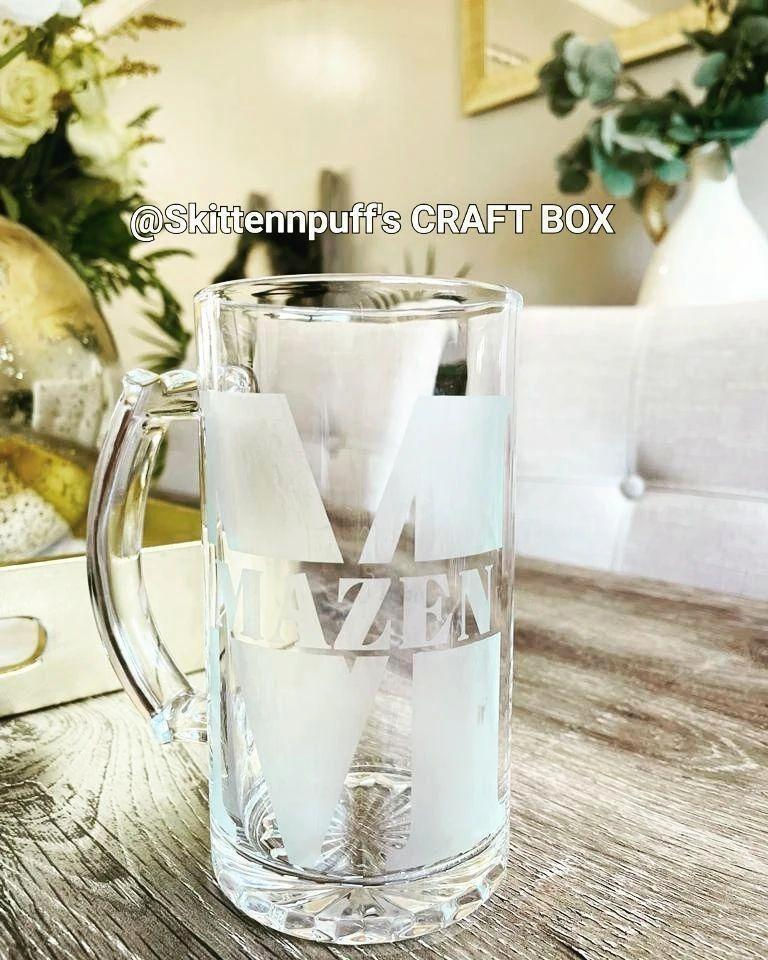glass-mug: (79, 258, 524, 947)
